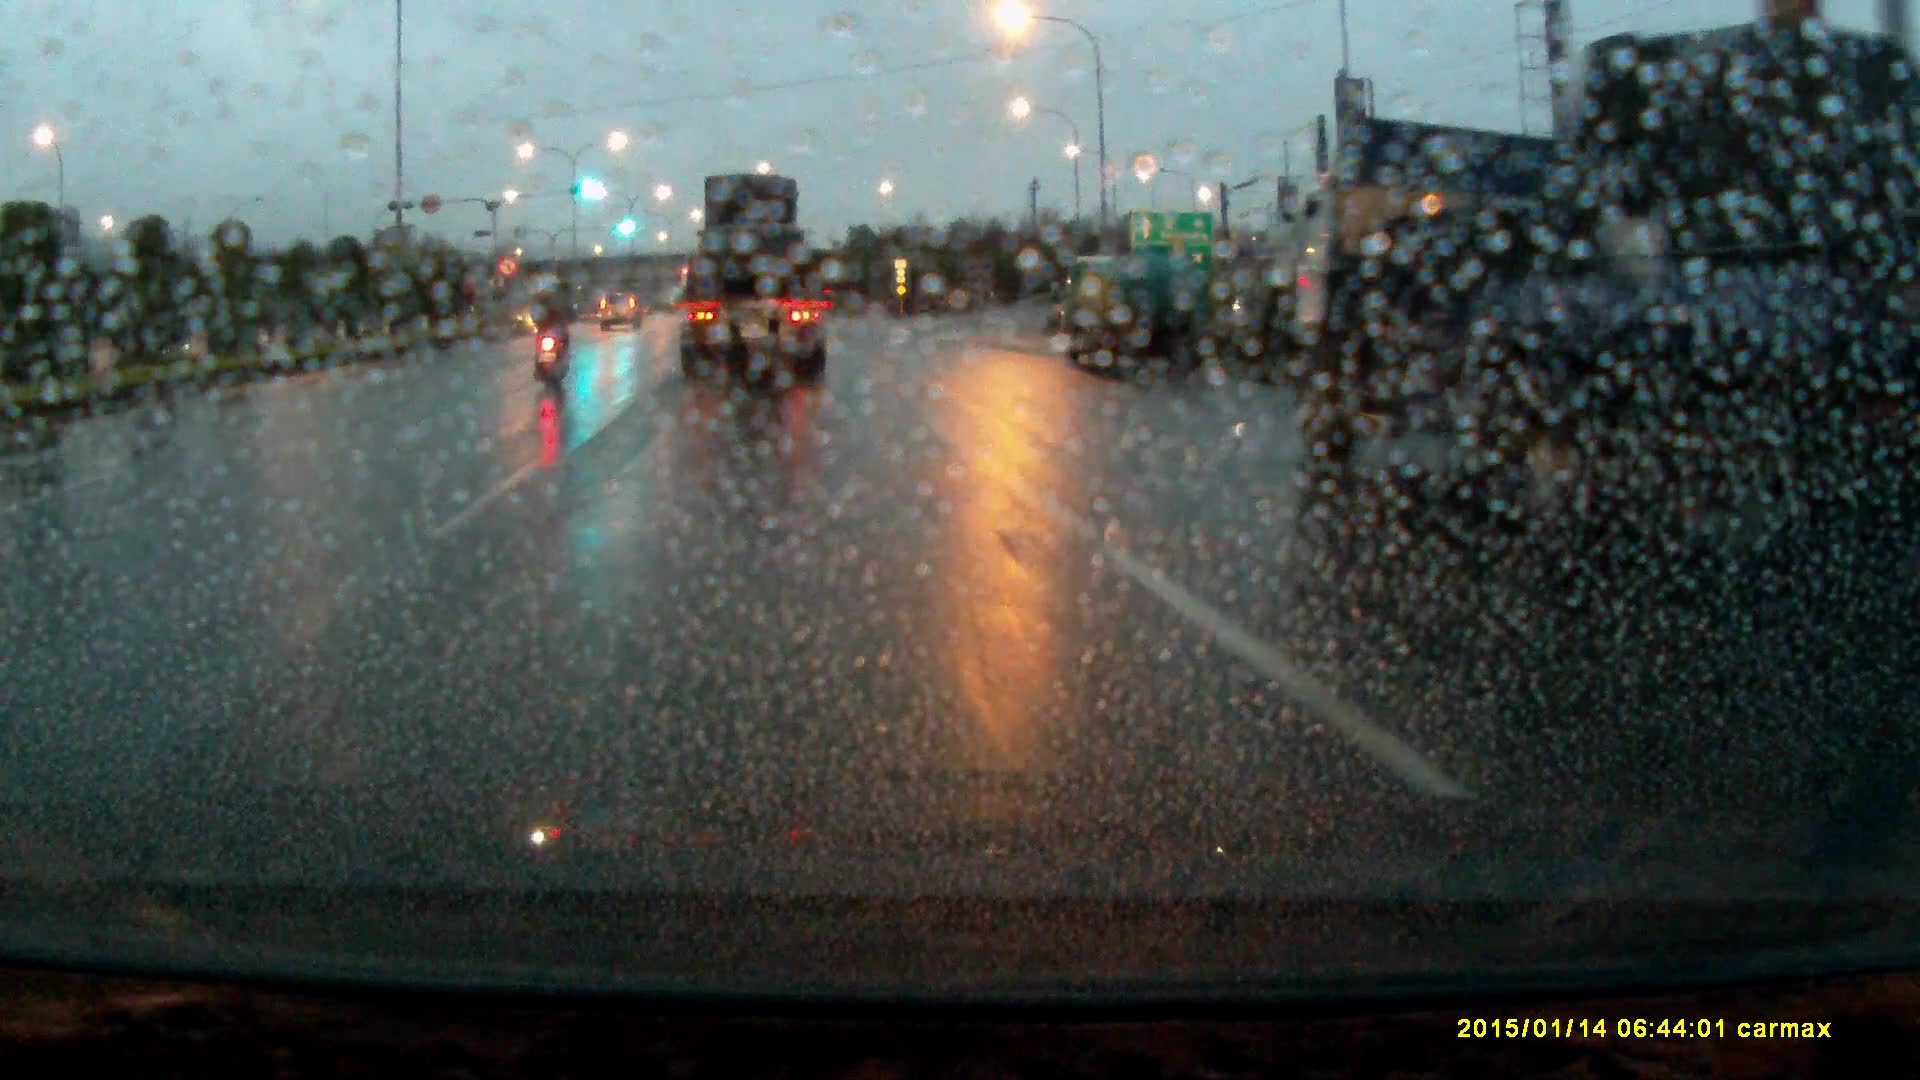rider: (529, 272, 581, 391)
vehicle: (1277, 98, 1909, 561), (672, 171, 831, 390), (1055, 257, 1219, 374), (600, 294, 646, 337)
